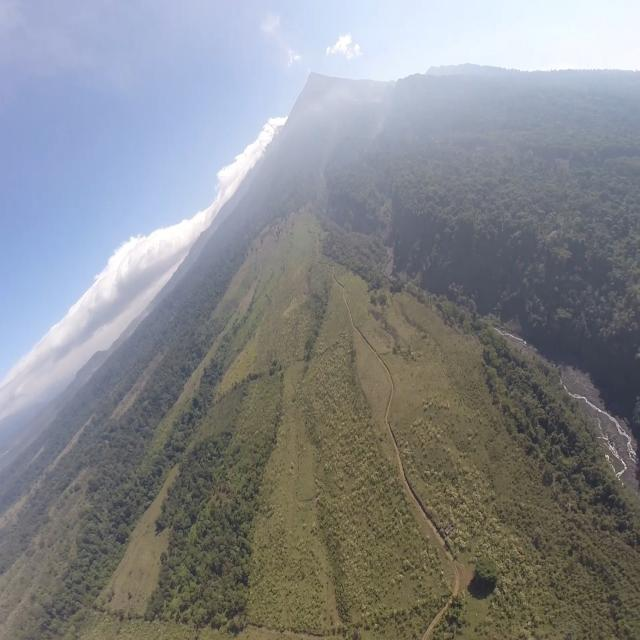Summit: (306, 68, 318, 79)
